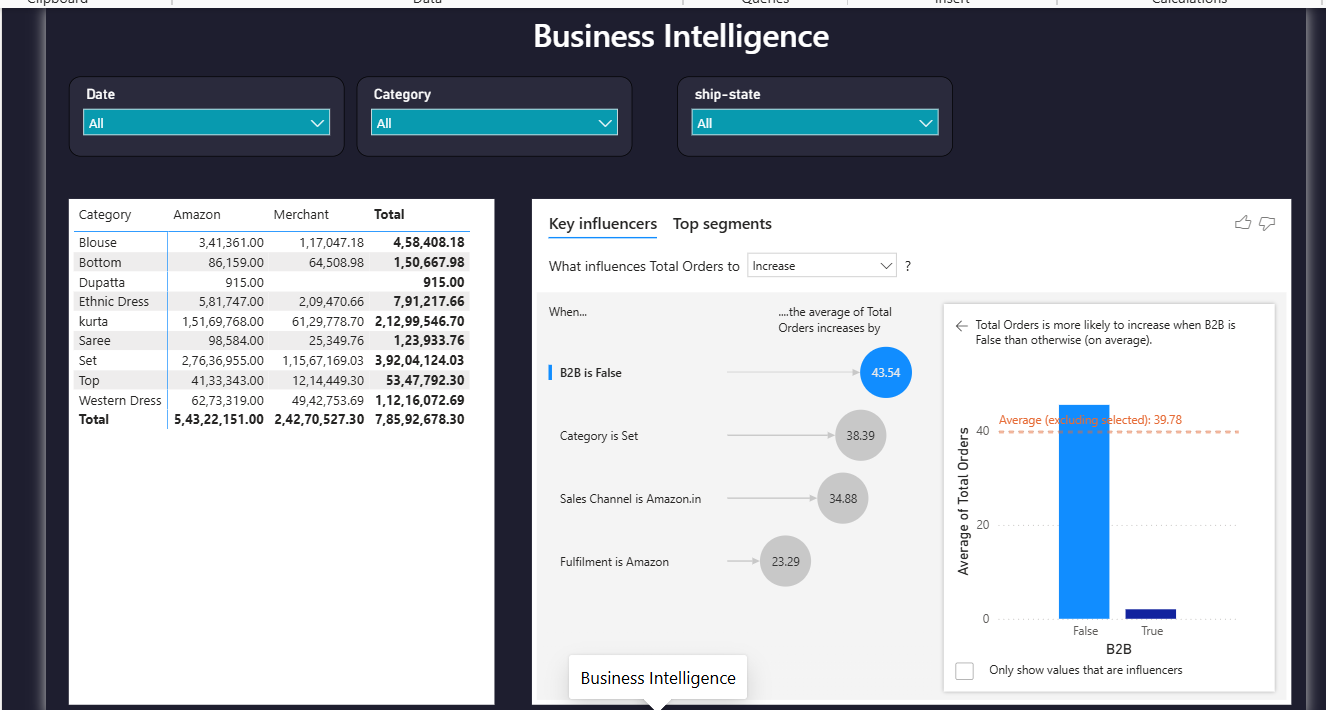

What the dashboard file says about the page in this screenshot:
{"tool":"powerbi","page":{"name":"Business Intelligence","canvas":[1280,720],"ordinal":2},"visuals":[{"type":"textbox","box":[10.2,0,1269.5,69.5],"z":0},{"type":"slicer","fields":{"Values":["Cleaned_Amazon_Sale_Report.Date"]},"box":[23.7,69.5,279.7,81.4],"z":1000},{"type":"slicer","fields":{"Values":["Cleaned_Amazon_Sale_Report.Category"]},"box":[315.3,69.5,279.7,81.4],"z":2000},{"type":"slicer","fields":{"Values":["Cleaned_Amazon_Sale_Report.ship-state"]},"box":[640.7,69.5,279.7,81.4],"z":3000},{"type":"keyDriversVisual","fields":{"Target":["Cleaned_Amazon_Sale_Report.Total Orders"],"ExplainBy":["Cleaned_Amazon_Sale_Report.Category","Cleaned_Amazon_Sale_Report.ship-state","Cleaned_Amazon_Sale_Report.Fulfilment","Cleaned_Amazon_Sale_Report.Size","Cleaned_Amazon_Sale_Report.Sales Channel ","Cleaned_Amazon_Sale_Report.B2B"]},"box":[493.2,193.2,771.2,513.6],"z":4000},{"type":"pivotTable","fields":{"Rows":["Cleaned_Amazon_Sale_Report.Category"],"Columns":["Cleaned_Amazon_Sale_Report.Fulfilment"],"Values":["Cleaned_Amazon_Sale_Report.Total Sales"]},"box":[23.7,193.2,432.2,513.6],"z":4001}]}

Visuals, with their boxes on the page's 1280x720 design canvas (x1, y1, x2, y2). These are canvas units, not pixel positions in the 1326x710 screenshot, which may show the page scaled, cropped or inside an application window:
textbox: [10, 0, 1280, 70]
slicer - Cleaned_Amazon_Sale_Report.Date: [24, 70, 303, 151]
slicer - Cleaned_Amazon_Sale_Report.Category: [315, 70, 595, 151]
slicer - Cleaned_Amazon_Sale_Report.ship-state: [641, 70, 920, 151]
keyDriversVisual - Cleaned_Amazon_Sale_Report.Total Orders x Cleaned_Amazon_Sale_Report.Category: [493, 193, 1264, 707]
pivotTable - Cleaned_Amazon_Sale_Report.Category x Cleaned_Amazon_Sale_Report.Fulfilment: [24, 193, 456, 707]
